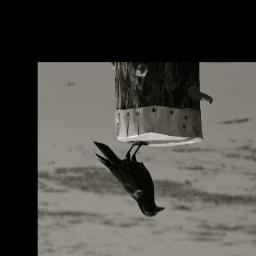Crow: (91, 137, 166, 220)
